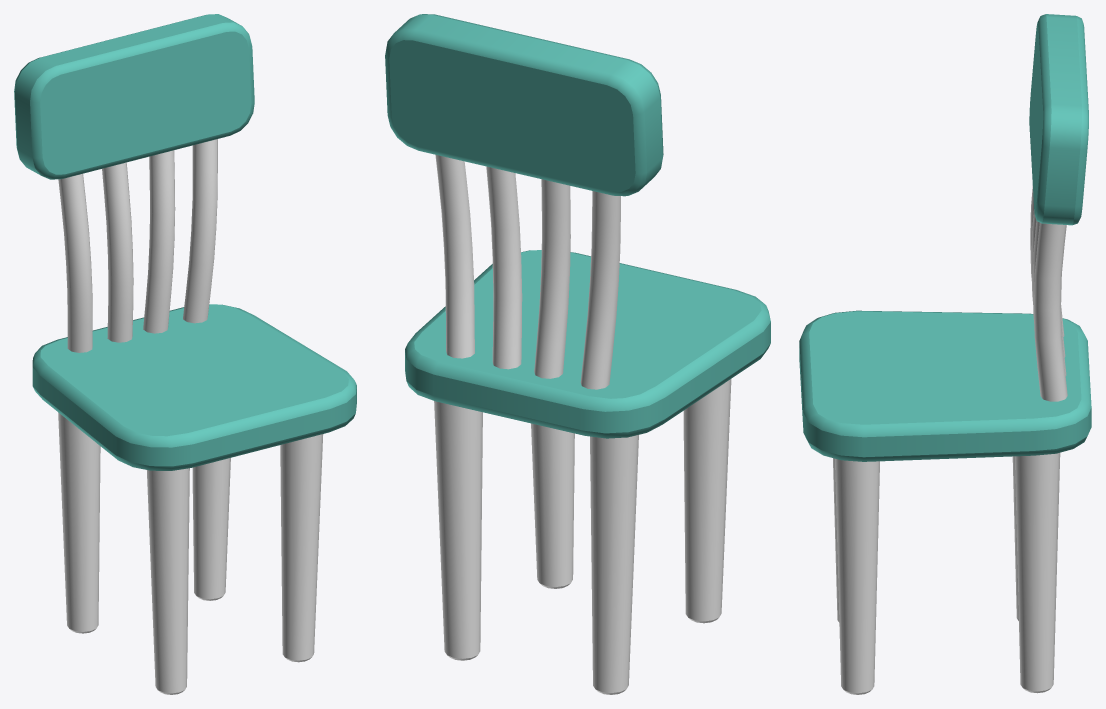
File: Chair3.fbx
The picture shows the model from 3 angles, left to right: view 1: azimuth 30°, elevation 25°; view 2: azimuth 150°, elevation 25°; view 3: azimuth 270°, elevation 25°; orthographic projection. The views are drawn at different scales.
Parts seen in each view (by area): view 1: Chair3; view 2: Chair3; view 3: Chair3.
Part boxes in pixels (x1,y1,x2,y2): Chair3: (14, 14, 356, 694); Chair3: (385, 14, 770, 694); Chair3: (799, 14, 1091, 694).
Bounding box in the file's own units: 0.4204 × 0.9547 × 0.426.
